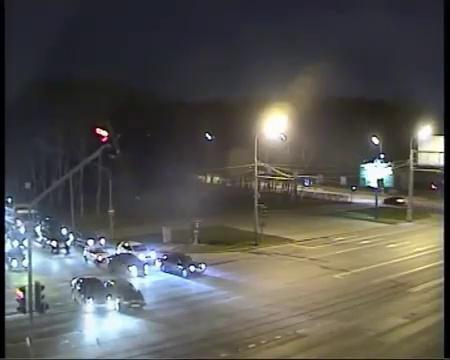car-accident: (70, 277, 147, 315)
